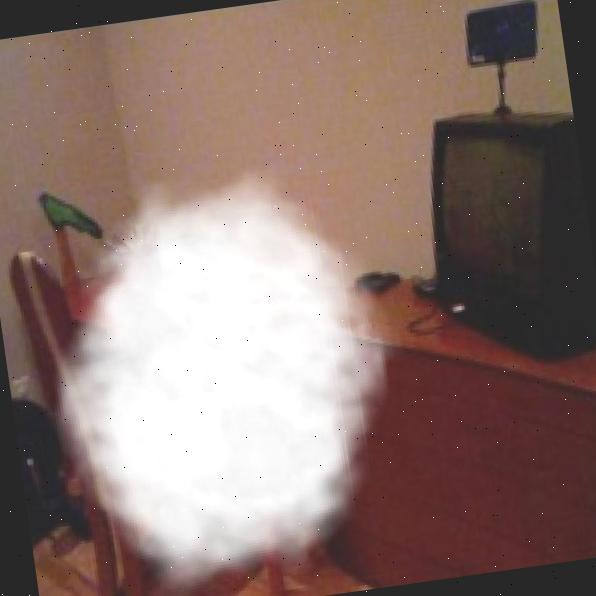smoke: (16, 148, 435, 596)
